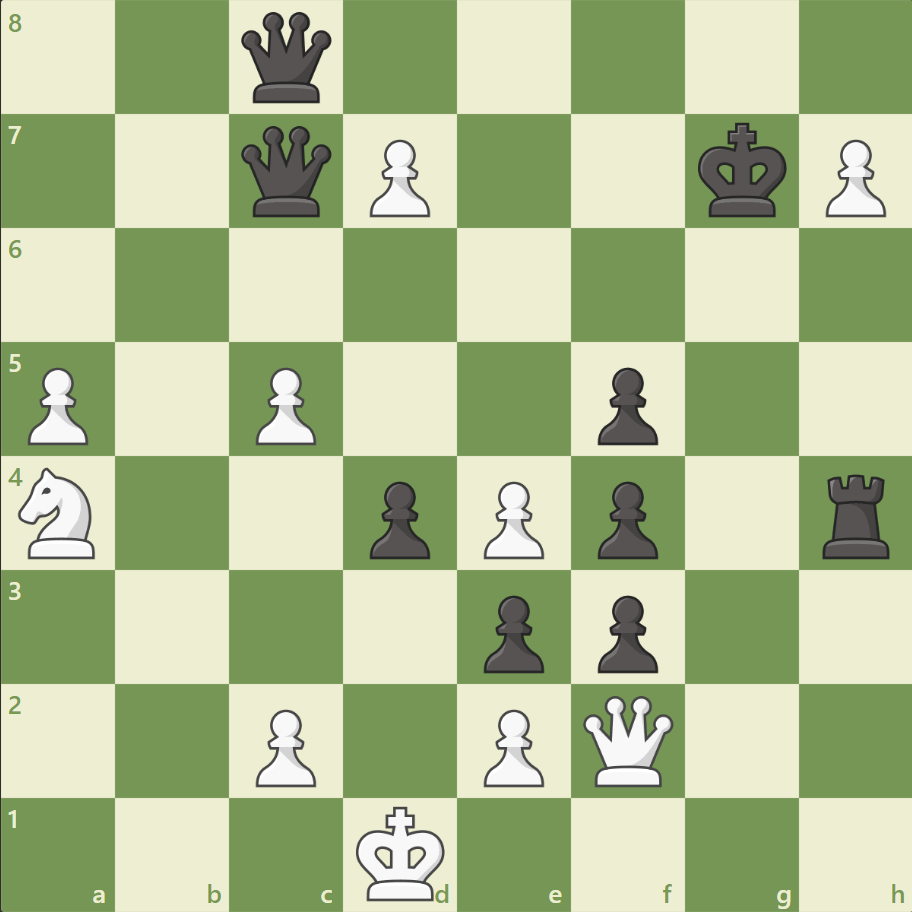K: (351, 798, 451, 906)
N: (11, 461, 108, 564)
P: (20, 359, 95, 450), (247, 359, 322, 450), (474, 473, 549, 564), (247, 700, 322, 791), (474, 700, 549, 791), (361, 132, 435, 223), (815, 132, 889, 223)
Q: (578, 690, 677, 789)
k: (692, 117, 792, 225)
p: (474, 586, 549, 677), (588, 359, 662, 450), (361, 473, 435, 564), (588, 473, 662, 564), (588, 586, 662, 677)
q: (237, 122, 336, 222), (237, 9, 336, 108)
r: (814, 466, 897, 563)
